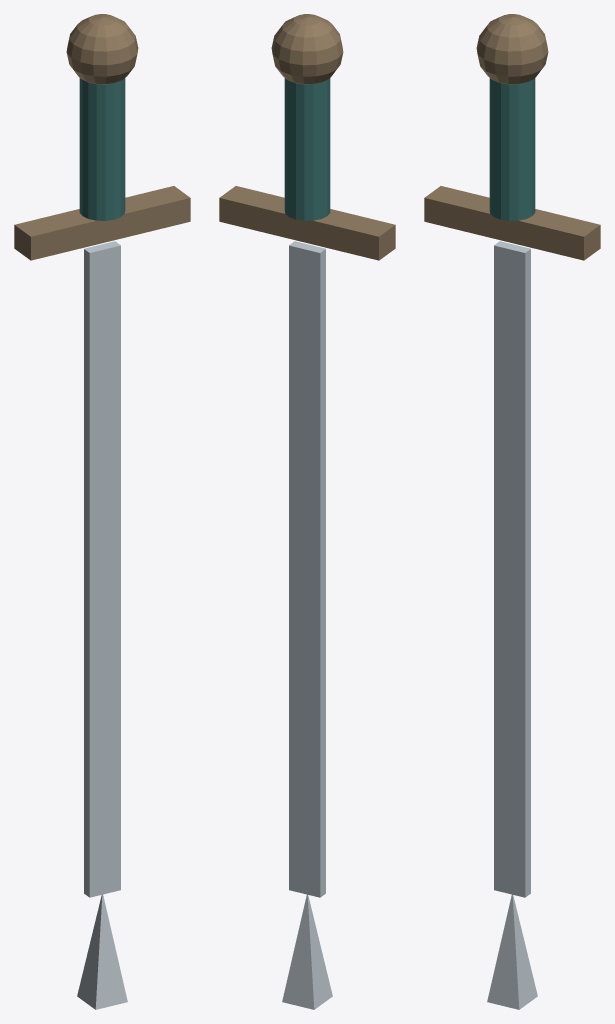
The model's file is sword01.glb.
The picture shows the model from 3 angles, left to right: view 1: azimuth 30°, elevation 25°; view 2: azimuth 150°, elevation 25°; view 3: azimuth 330°, elevation 25°; orthographic projection.
Visible parts, largest first — view 1: Sword_Blade, Sword_Grip, Sword_Guard, Sword_Pommel, Sword_Tip; view 2: Sword_Blade, Sword_Grip, Sword_Guard, Sword_Pommel, Sword_Tip; view 3: Sword_Blade, Sword_Grip, Sword_Guard, Sword_Pommel, Sword_Tip.
Part boxes in pixels (x1,y1,x2,y2): Sword_Blade: (84, 241, 120, 897); Sword_Grip: (79, 78, 125, 220); Sword_Guard: (14, 186, 190, 260); Sword_Pommel: (66, 14, 138, 84); Sword_Tip: (77, 894, 127, 1009); Sword_Blade: (289, 241, 325, 897); Sword_Grip: (284, 78, 330, 220); Sword_Guard: (219, 186, 395, 260); Sword_Pommel: (271, 14, 343, 84); Sword_Tip: (282, 894, 332, 1009); Sword_Blade: (494, 241, 530, 897); Sword_Grip: (489, 78, 535, 220); Sword_Guard: (424, 186, 600, 260); Sword_Pommel: (476, 14, 548, 84); Sword_Tip: (487, 894, 537, 1009).
Size of the model in its own units: 0.28 by 1.65 by 0.11.
